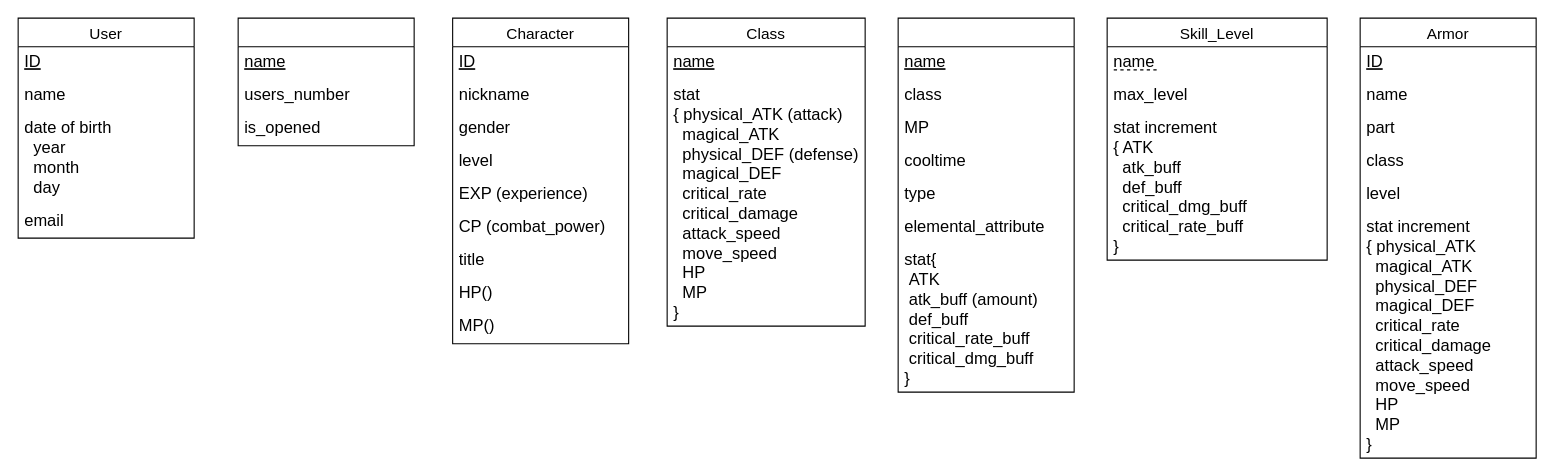
This 1554x476 diagram has some shape labels left out. Here are the shapes that lost their labels. From the top down, the box of each, then its label:
(237, 17, 414, 146): Server
(897, 17, 1074, 392): Skill
